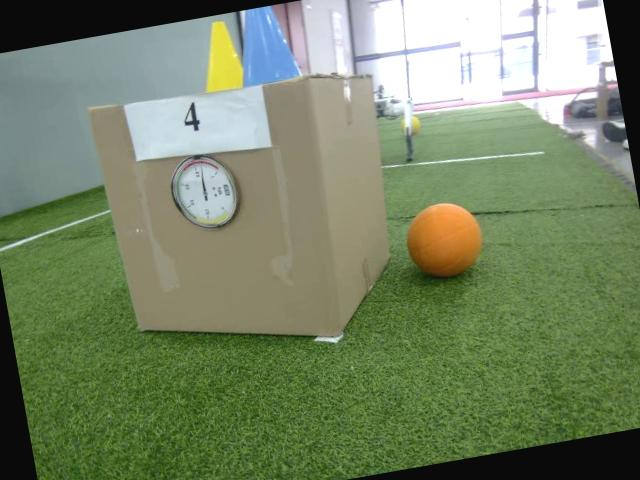4: (180, 100, 202, 132)
Dashboard: (164, 148, 244, 236)
blue_barrel: (229, 2, 302, 87)
orange_ball: (398, 196, 489, 284)
ssi: (222, 184, 231, 197)
yellow_barrel: (192, 16, 247, 94)
